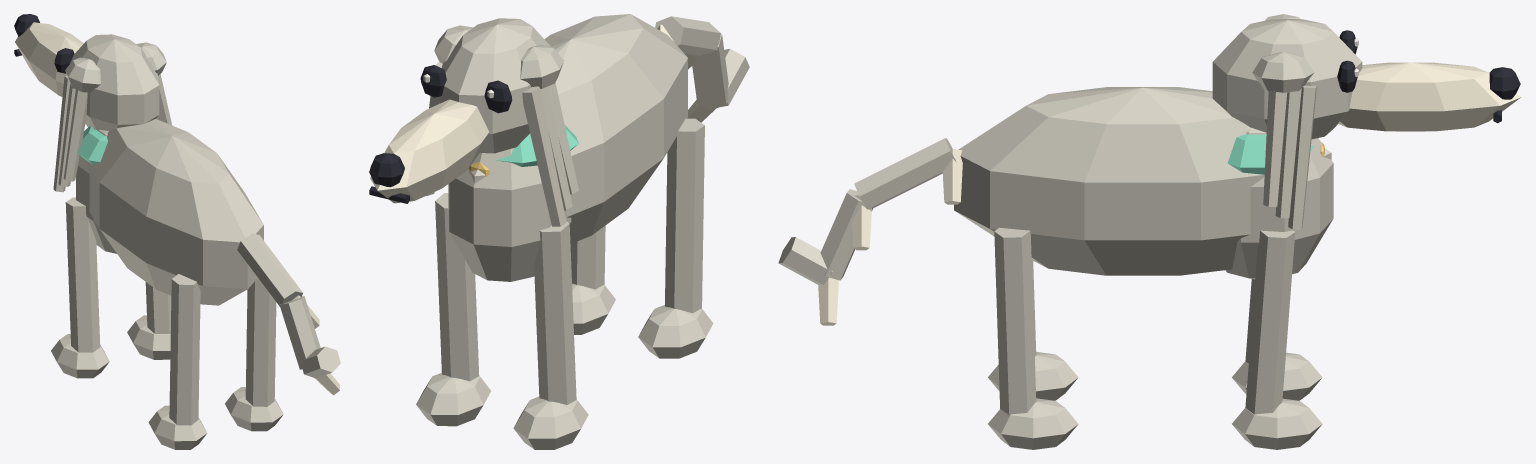
File: borzoi.glb
The picture shows the model from 3 angles, left to right: view 1: azimuth 30°, elevation 25°; view 2: azimuth 150°, elevation 25°; view 3: azimuth 270°, elevation 25°; orthographic projection. The views are drawn at different scales.
Parts seen in each view (by area): view 1: BodyMesh, HeadMesh; view 2: BodyMesh, HeadMesh; view 3: BodyMesh, HeadMesh.
Part boxes in pixels (box(x1,y1,x2,y2)): BodyMesh: box(51, 119, 340, 449); HeadMesh: box(14, 14, 172, 192); BodyMesh: box(416, 14, 749, 449); HeadMesh: box(369, 18, 578, 226); BodyMesh: box(778, 87, 1333, 449); HeadMesh: box(1212, 14, 1521, 229).
Bounding box in the file's own units: 0.43 × 1.08 × 1.8.
